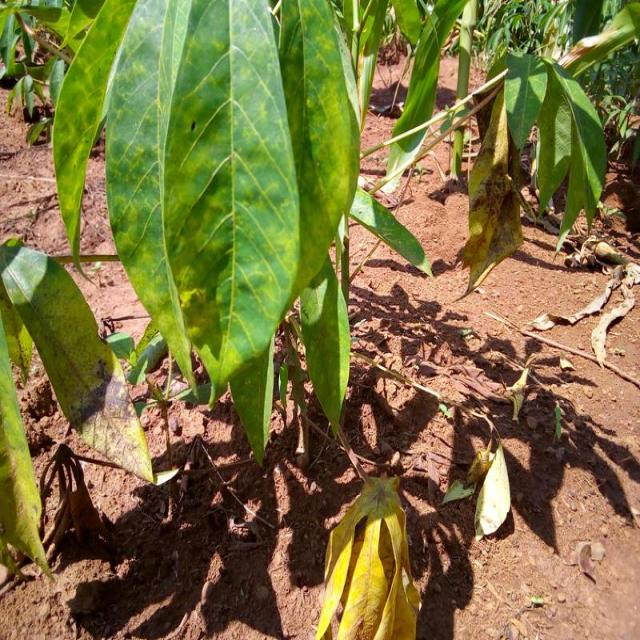cassava leaf: (102, 0, 302, 411), (0, 236, 156, 485), (314, 473, 422, 638)
